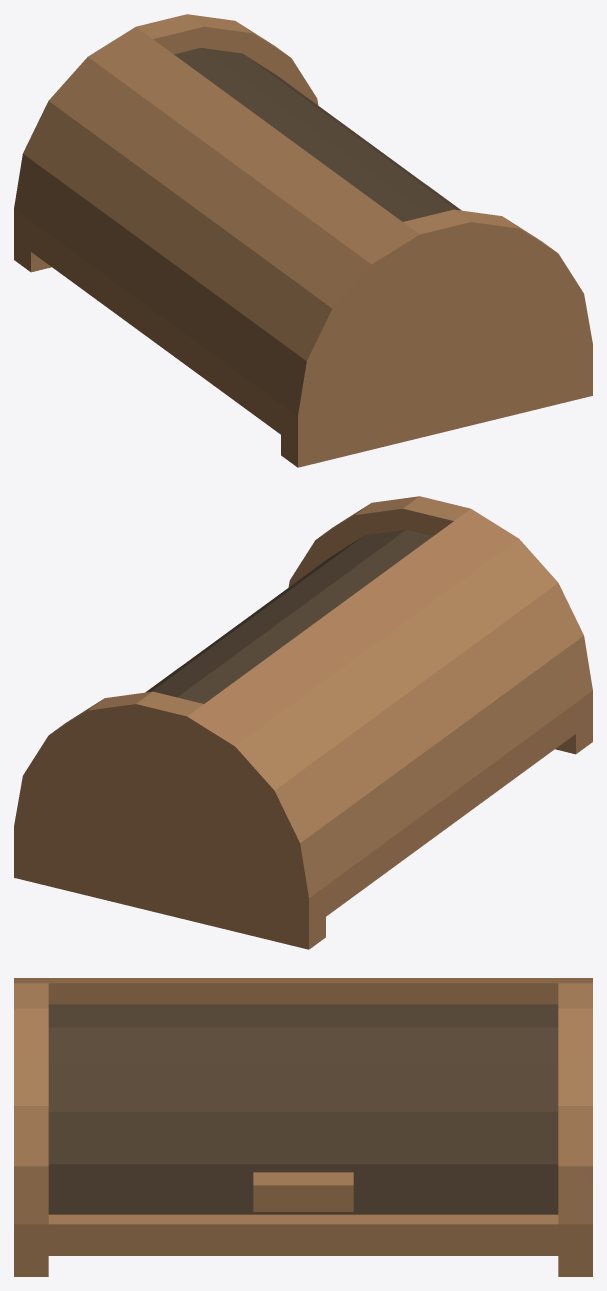
The model's file is SM_kitchenBreadBox.glb.
The picture shows the model from 3 angles, top to bottom: view 1: azimuth 30°, elevation 25°; view 2: azimuth 150°, elevation 25°; view 3: azimuth 270°, elevation 25°; orthographic projection.
Parts seen in each view (by area): view 1: SM_kitchenBreadBox; view 2: SM_kitchenBreadBox; view 3: SM_kitchenBreadBox.
Part boxes in pixels (<box>): SM_kitchenBreadBox: <box>14,14,592,467</box>; SM_kitchenBreadBox: <box>14,496,592,949</box>; SM_kitchenBreadBox: <box>14,978,592,1276</box>.
Bounding box in the file's own units: 0.3435 × 0.2264 × 0.5726.
Materials: 1 (1 with a texture image).
